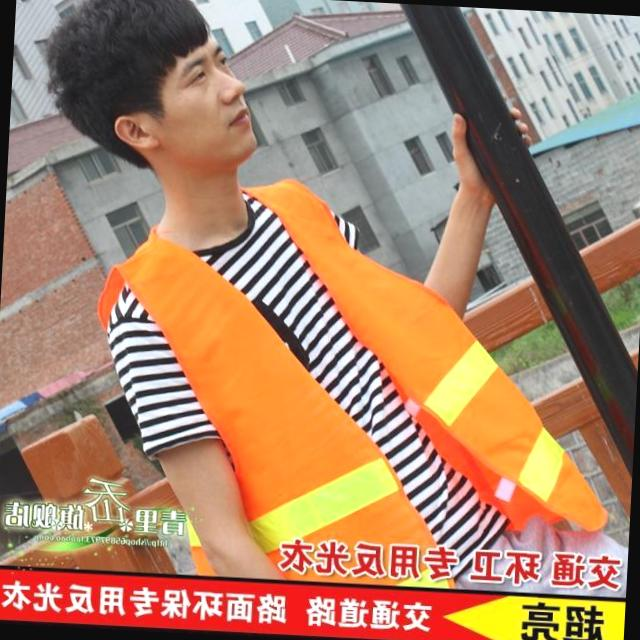vest: (64, 166, 587, 560)
